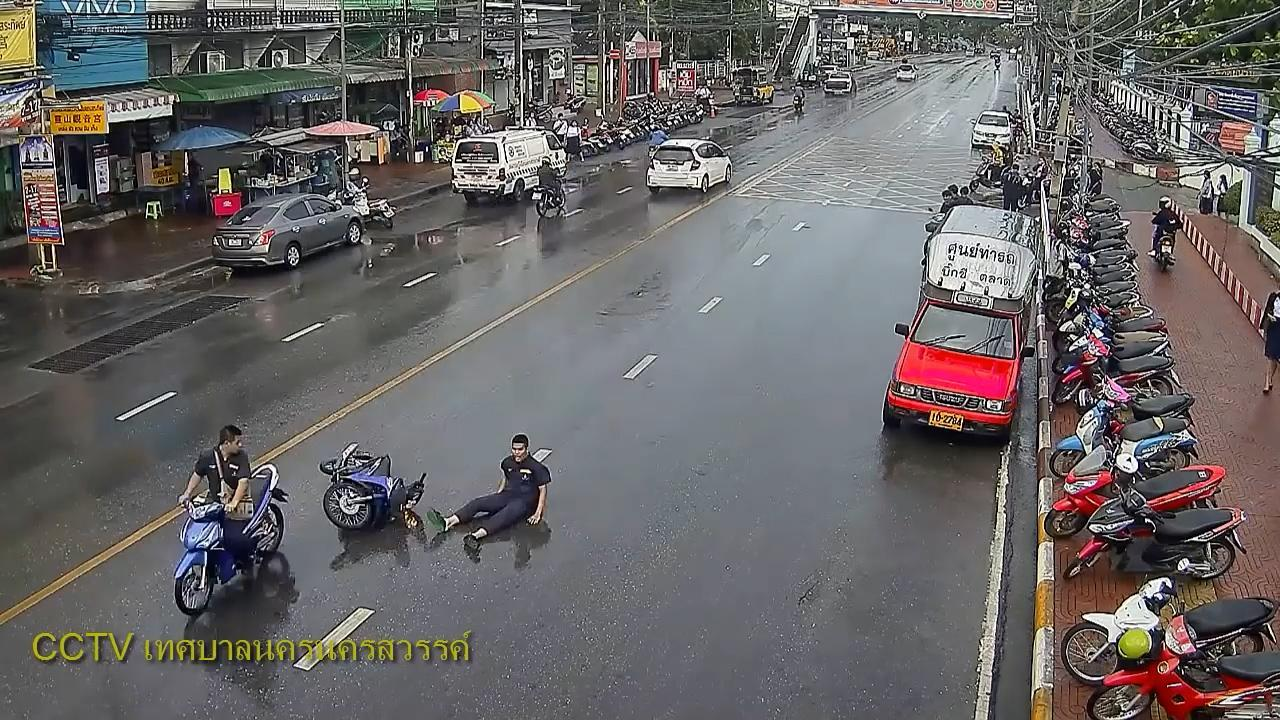accident: (425, 430, 549, 562)
